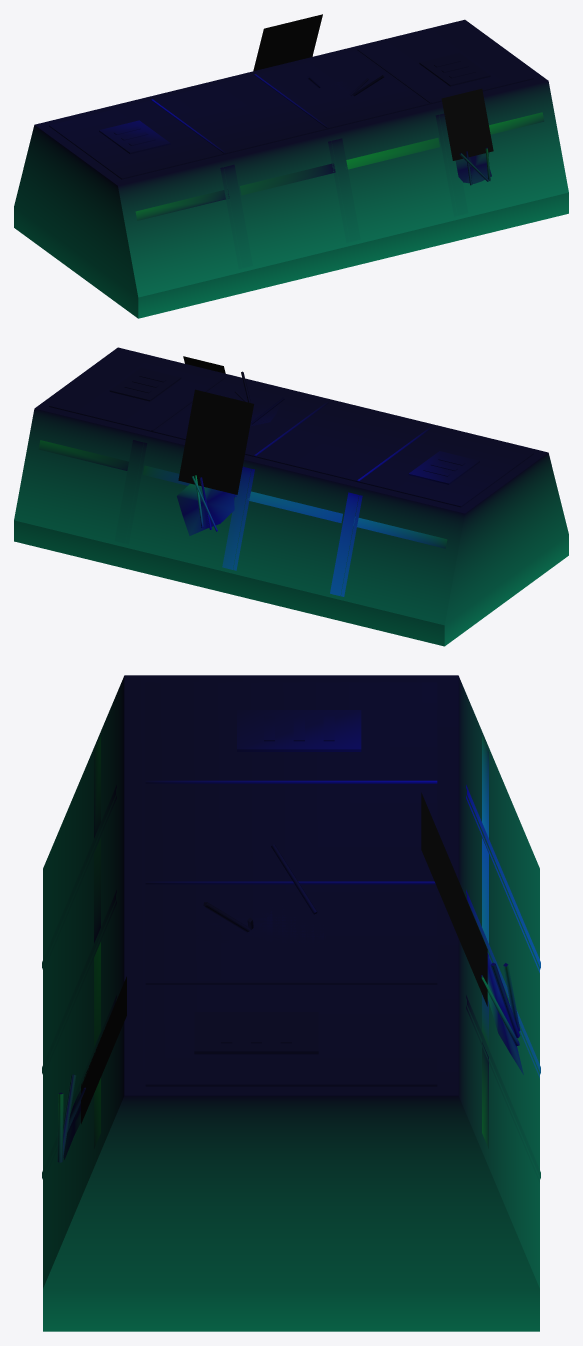
The model's file is hpg_walkway_damaged.glb.
The picture shows the model from 3 angles, top to bottom: view 1: azimuth 30°, elevation 25°; view 2: azimuth 150°, elevation 25°; view 3: azimuth 270°, elevation 25°; orthographic projection. The views are drawn at different scales.
Parts seen in each view (by area): view 1: lod0; view 2: lod0; view 3: lod0.
Boxes of the visible parts, left/top/right/bottom form: lod0: left=14, top=14, right=568, bottom=318; lod0: left=14, top=347, right=568, bottom=646; lod0: left=42, top=675, right=540, bottom=1331.
Size of what is drawn, in the model's own units: 25.6 by 9.49 by 12.84.
